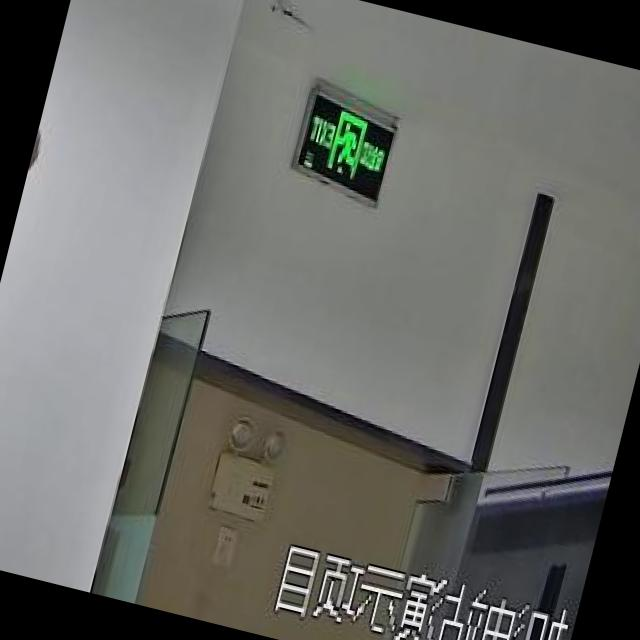Guns: (0, 48, 81, 498)
